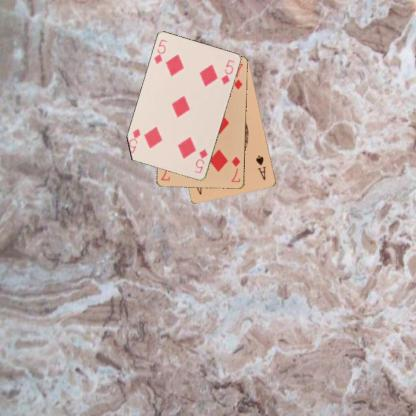5d: (192, 146, 209, 175), (152, 37, 168, 66)
7d: (229, 154, 241, 184)
As: (254, 153, 268, 182)
